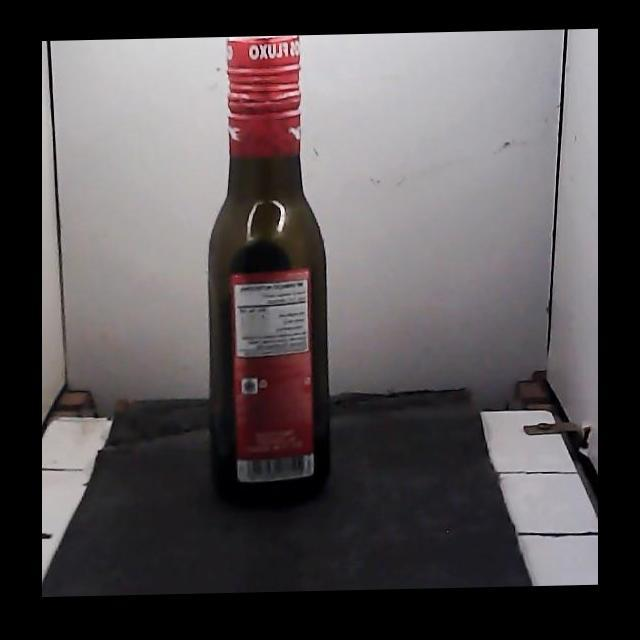vidro: (209, 35, 329, 497)
